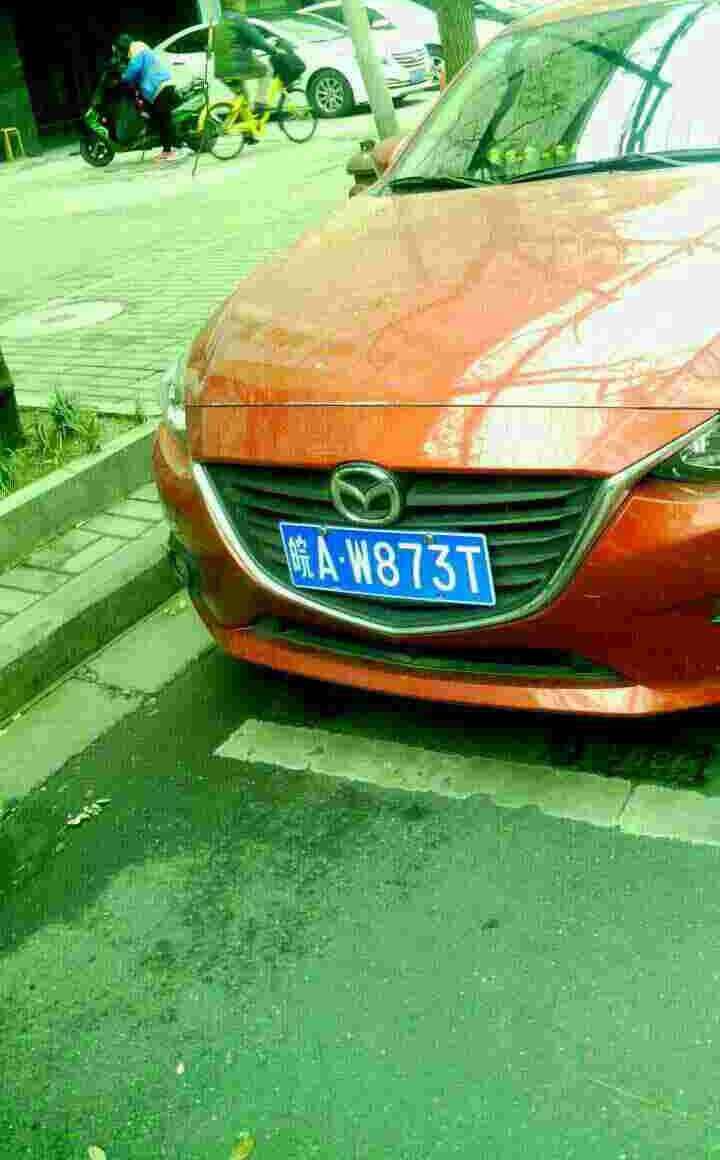license_plate: (272, 519, 496, 605)
